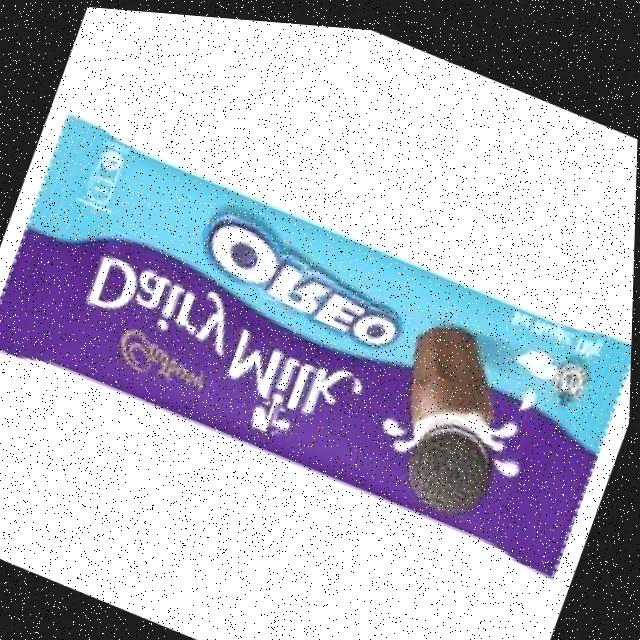cadbury: (0, 101, 638, 580)
